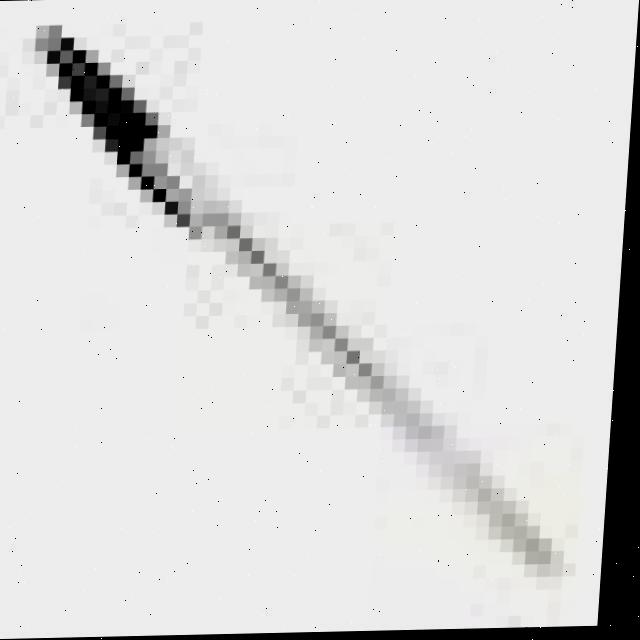pen: (0, 15, 600, 601)
